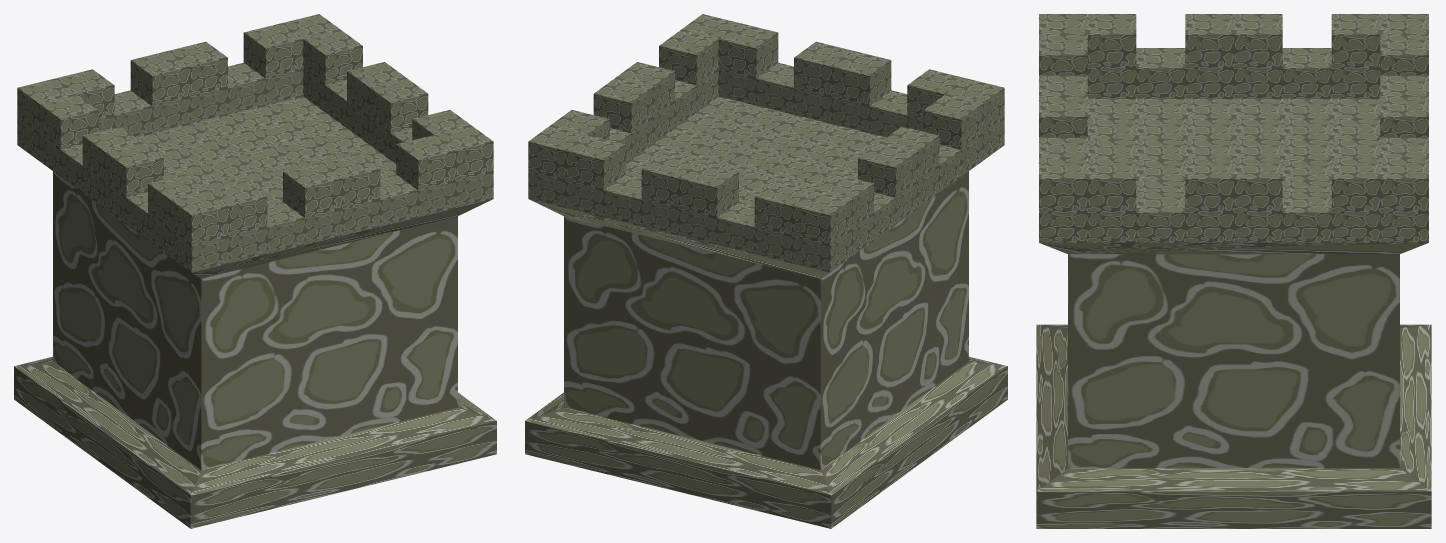
File: tower.fbx
3 views of the same model, side by side, from view 1: azimuth 30°, elevation 25°; view 2: azimuth 150°, elevation 25°; view 3: azimuth 270°, elevation 25° (orthographic). The views are drawn at different scales.
Visible parts, largest first — view 1: Plane; view 2: Plane; view 3: Plane.
Boxes of the visible parts, bbox=[...] form: Plane: bbox=[14, 14, 496, 528]; Plane: bbox=[525, 14, 1007, 528]; Plane: bbox=[1036, 14, 1431, 528].
Bounding box in the file's own units: 1136 × 1107 × 1136.
